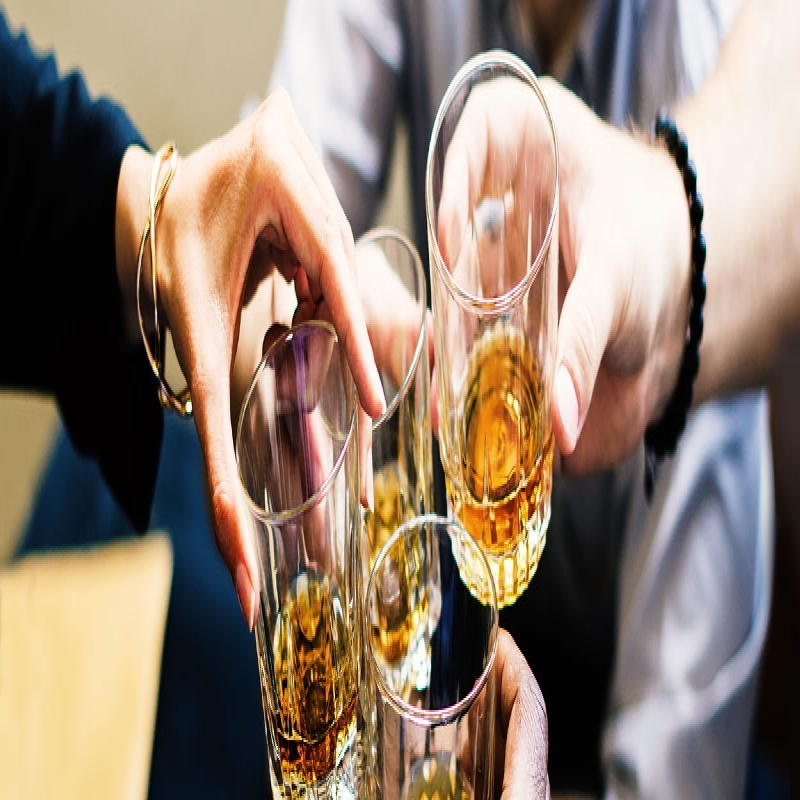whiskey: (426, 50, 555, 599), (236, 322, 374, 800)
